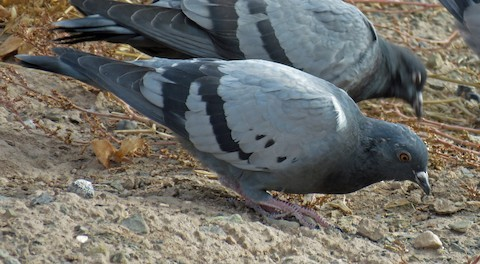pigeon: (11, 42, 435, 229), (54, 1, 430, 122)
